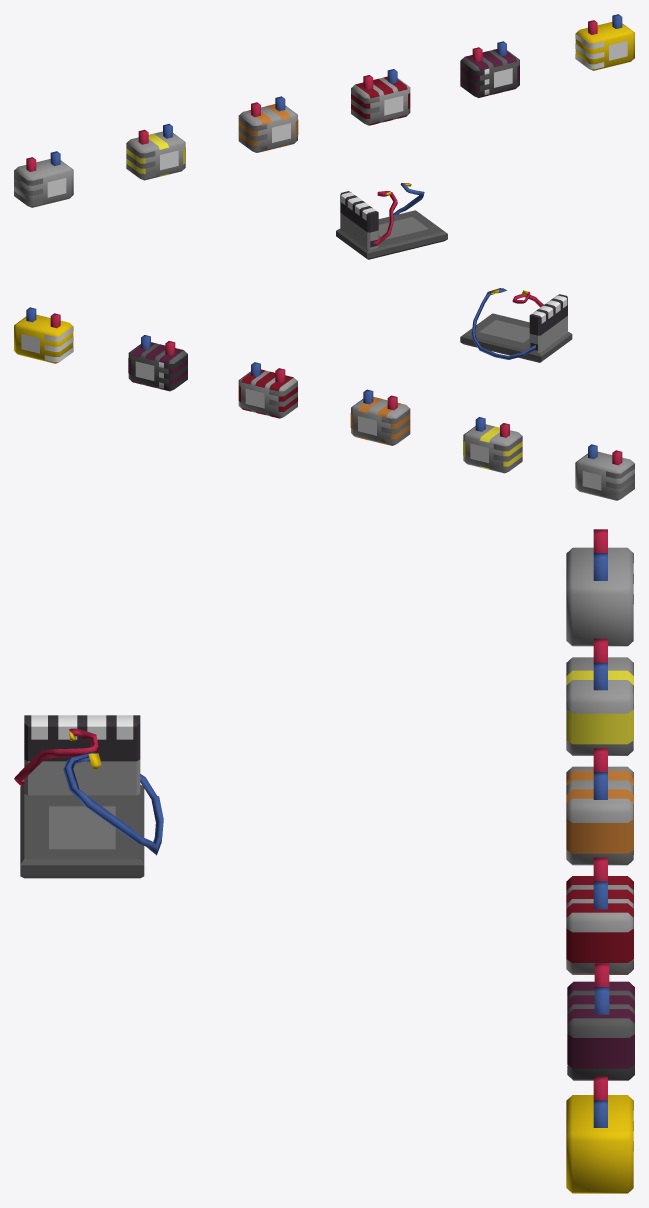
The model's file is Power Cells.fbx.
3 views of the same model, one above another, from view 1: azimuth 30°, elevation 25°; view 2: azimuth 150°, elevation 25°; view 3: azimuth 270°, elevation 25° (orthographic). The views are drawn at different scales.
Visible parts, largest first — view 1: Power Cell Charger, Power Cell Super-Capacity, Power Cell Hyper-Capacity, Power Cell, Power Cell Bluespace, Power Cell Admin Infinite, Power Cell High-Capacity, Power Cell Charger Wires; view 2: Power Cell Charger, Power Cell Super-Capacity, Power Cell Admin Infinite, Power Cell Hyper-Capacity, Power Cell High-Capacity, Power Cell Bluespace, Power Cell, Power Cell Charger Wires; view 3: Power Cell Charger, Power Cell Bluespace, Power Cell Admin Infinite, Power Cell, Power Cell Super-Capacity, Power Cell High-Capacity, Power Cell Hyper-Capacity, Power Cell Charger Wires.
Part boxes in pixels (left/top/right/bottom): Power Cell Charger: left=336, top=191, right=447, bottom=259; Power Cell Super-Capacity: left=238, top=96, right=298, bottom=152; Power Cell Hyper-Capacity: left=351, top=69, right=410, bottom=125; Power Cell: left=14, top=151, right=73, bottom=207; Power Cell Bluespace: left=460, top=41, right=519, bottom=97; Power Cell Admin Infinite: left=575, top=14, right=634, bottom=70; Power Cell High-Capacity: left=126, top=123, right=185, bottom=180; Power Cell Charger Wires: left=372, top=183, right=424, bottom=245; Power Cell Charger: left=460, top=294, right=572, bottom=362; Power Cell Super-Capacity: left=350, top=389, right=410, bottom=445; Power Cell Admin Infinite: left=14, top=307, right=73, bottom=363; Power Cell Hyper-Capacity: left=238, top=362, right=297, bottom=418; Power Cell High-Capacity: left=463, top=417, right=522, bottom=473; Power Cell Bluespace: left=128, top=335, right=187, bottom=391; Power Cell: left=575, top=444, right=634, bottom=500; Power Cell Charger Wires: left=471, top=288, right=543, bottom=359; Power Cell Charger: left=20, top=715, right=144, bottom=878; Power Cell Bluespace: left=567, top=963, right=634, bottom=1080; Power Cell Admin Infinite: left=566, top=1076, right=633, bottom=1193; Power Cell: left=566, top=529, right=633, bottom=646; Power Cell Super-Capacity: left=566, top=748, right=633, bottom=865; Power Cell High-Capacity: left=566, top=638, right=633, bottom=755; Power Cell Hyper-Capacity: left=566, top=857, right=633, bottom=974; Power Cell Charger Wires: left=14, top=728, right=163, bottom=855.
Size of the model in its own units: 270 by 21.97 by 120.
